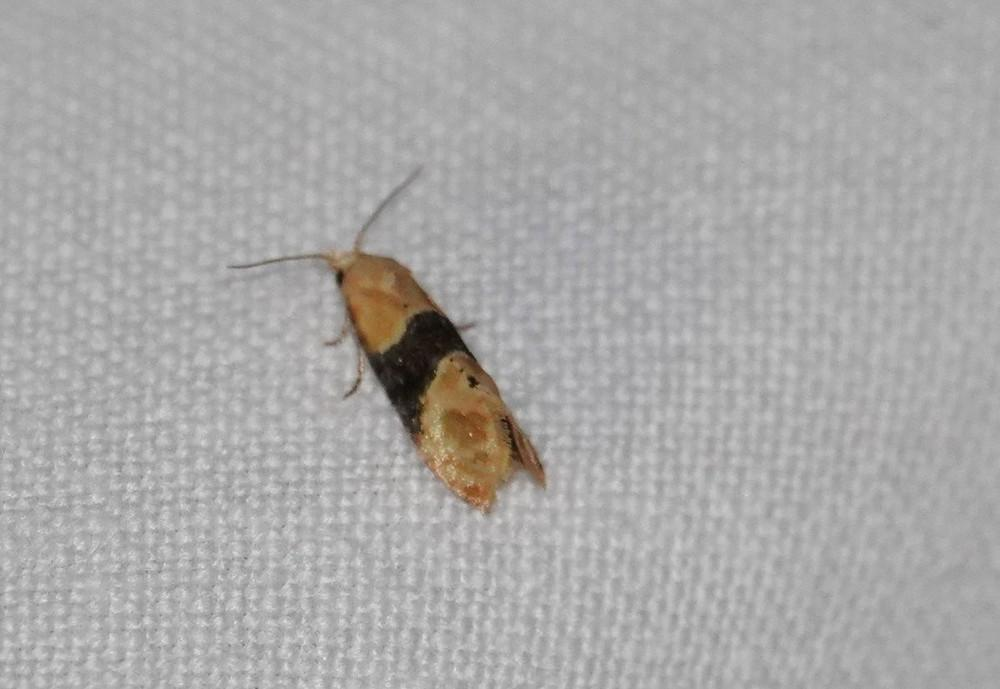Eupoecilia Ambiguella: (224, 161, 551, 518)
